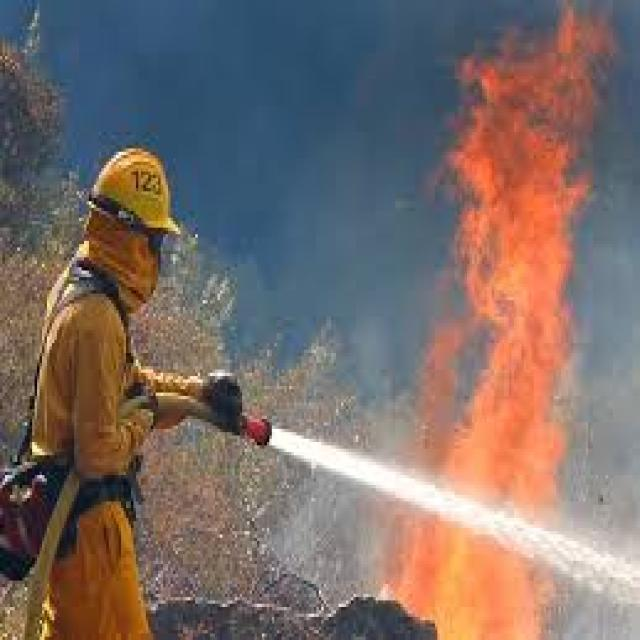Fire: (422, 22, 616, 640)
